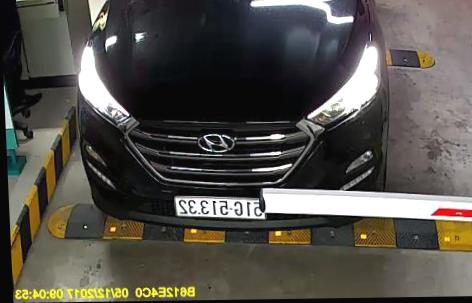License_Plate: (169, 189, 272, 224)
